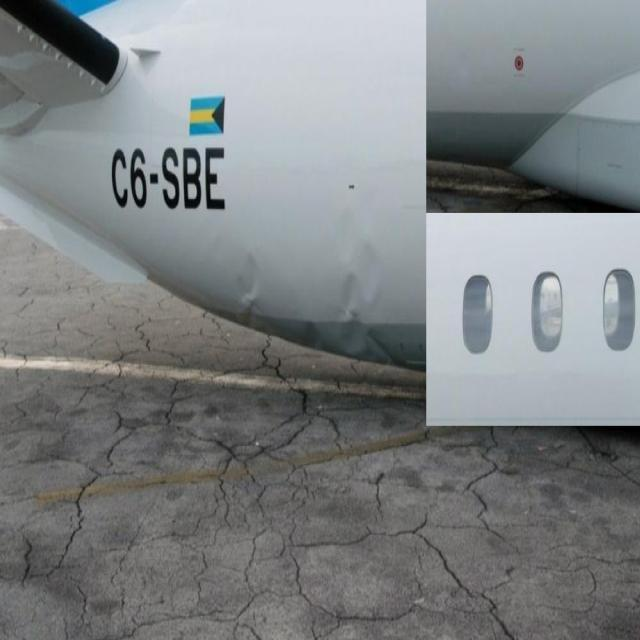dent: (331, 191, 394, 369), (224, 232, 277, 342)
